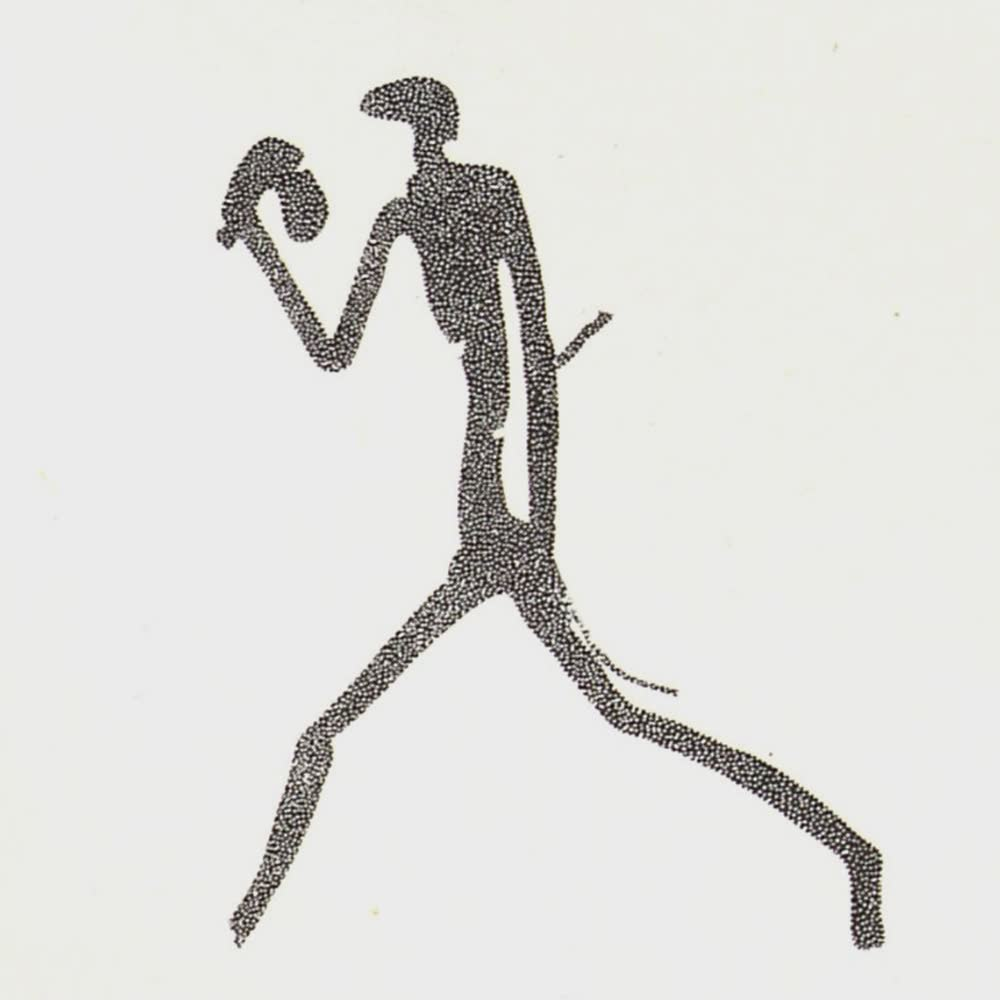man: (210, 72, 893, 968)
